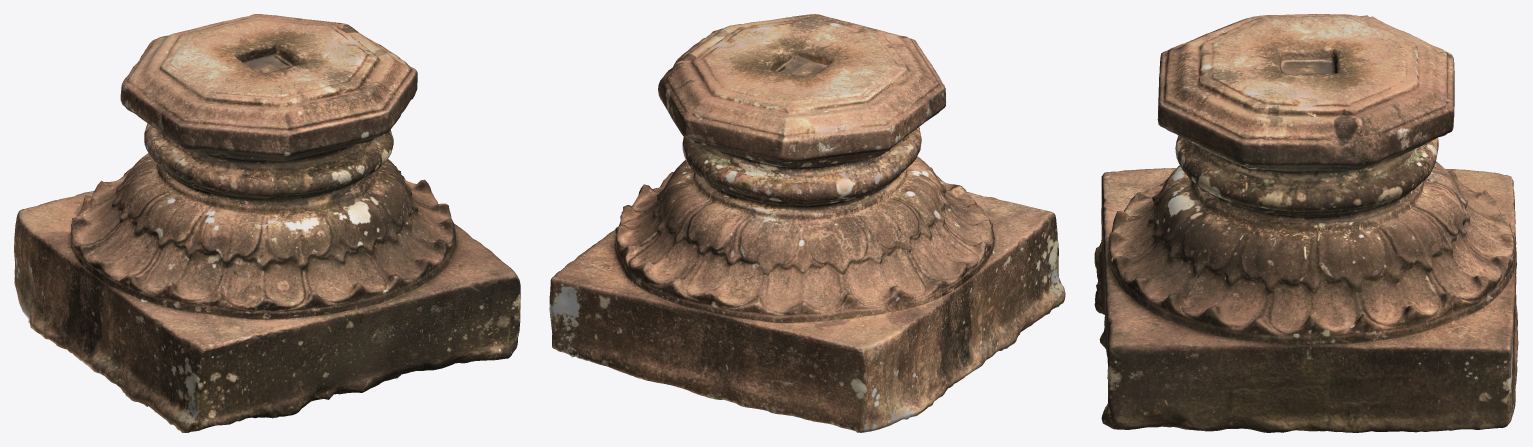
File: 11_MysonSanctuaryD_ChanTru_final.glb
3 renders of one model, left to right at view 1: azimuth 30°, elevation 25°; view 2: azimuth 150°, elevation 25°; view 3: azimuth 270°, elevation 25°, orthographic. The views are drawn at different scales.
Bounding box in the file's own units: 1.02 × 0.7629 × 0.9946.
1 material, 1 textured.
